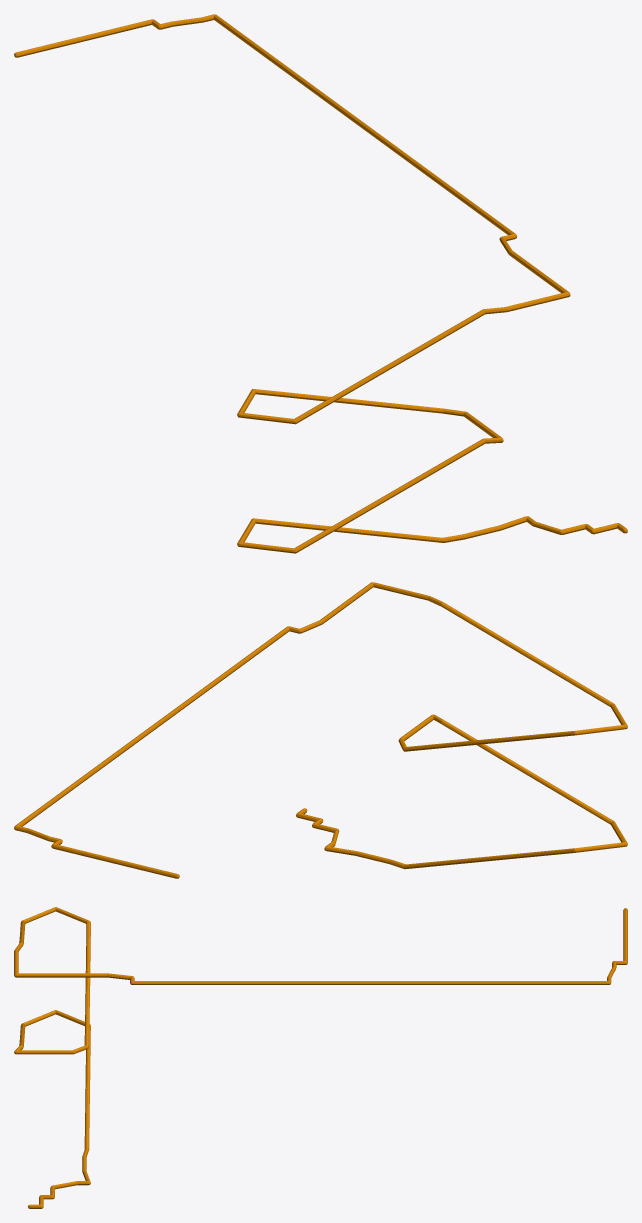
3 renders of one model, top to bottom at view 1: azimuth 30°, elevation 25°; view 2: azimuth 150°, elevation 25°; view 3: azimuth 270°, elevation 25°, orthographic. The views are drawn at different scales.
Size of the model in its own units: 1513 by 1020 by 2704.
